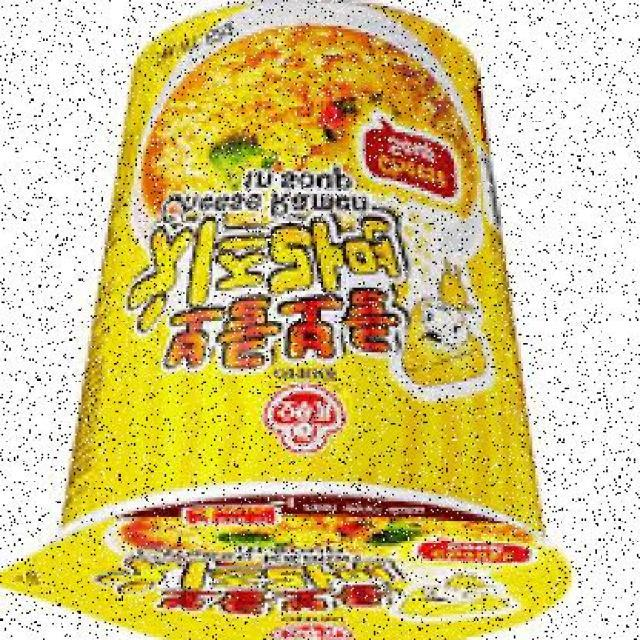Miscellaneous: (52, 3, 546, 640)
